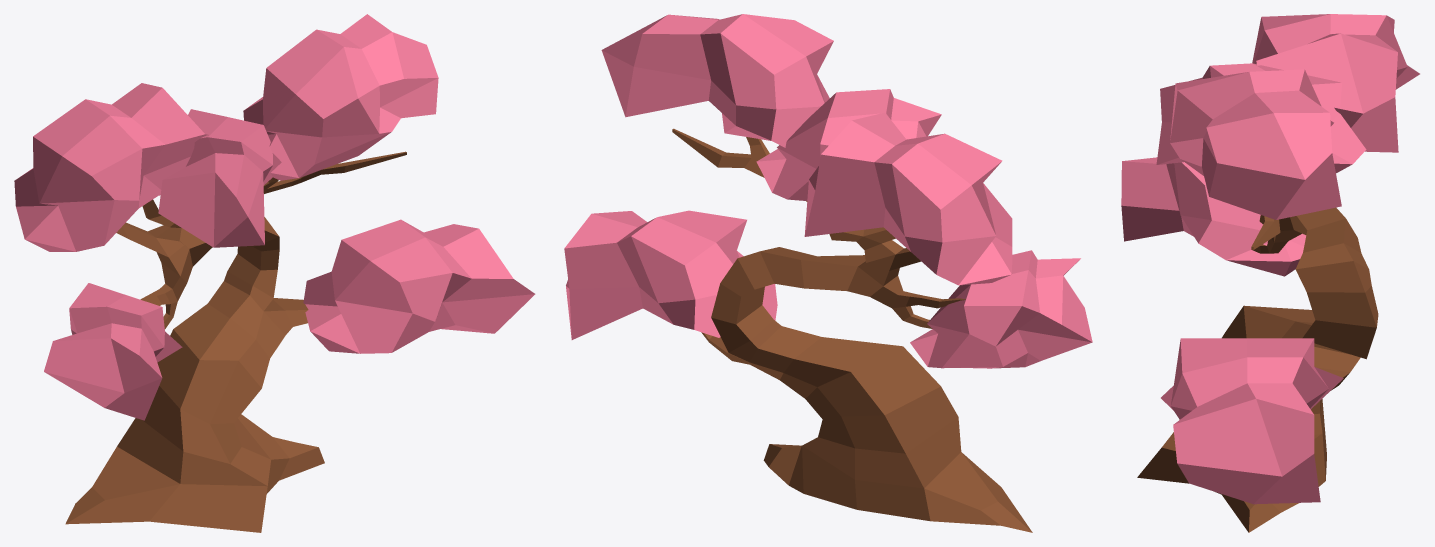
File: goodlowpoly cherry.fbx
The picture shows the model from 3 angles, left to right: view 1: azimuth 30°, elevation 25°; view 2: azimuth 150°, elevation 25°; view 3: azimuth 270°, elevation 25°; orthographic projection. The views are drawn at different scales.
Parts seen in each view (by area): view 1: Tree1.002; view 2: Tree1.002; view 3: Tree1.002.
Boxes of the visible parts, left/top/right/bottom form: Tree1.002: left=14, top=14, right=535, bottom=532; Tree1.002: left=564, top=14, right=1092, bottom=532; Tree1.002: left=1121, top=14, right=1419, bottom=532.
Size of the model in its own units: 48.22 by 40.76 by 23.02.
